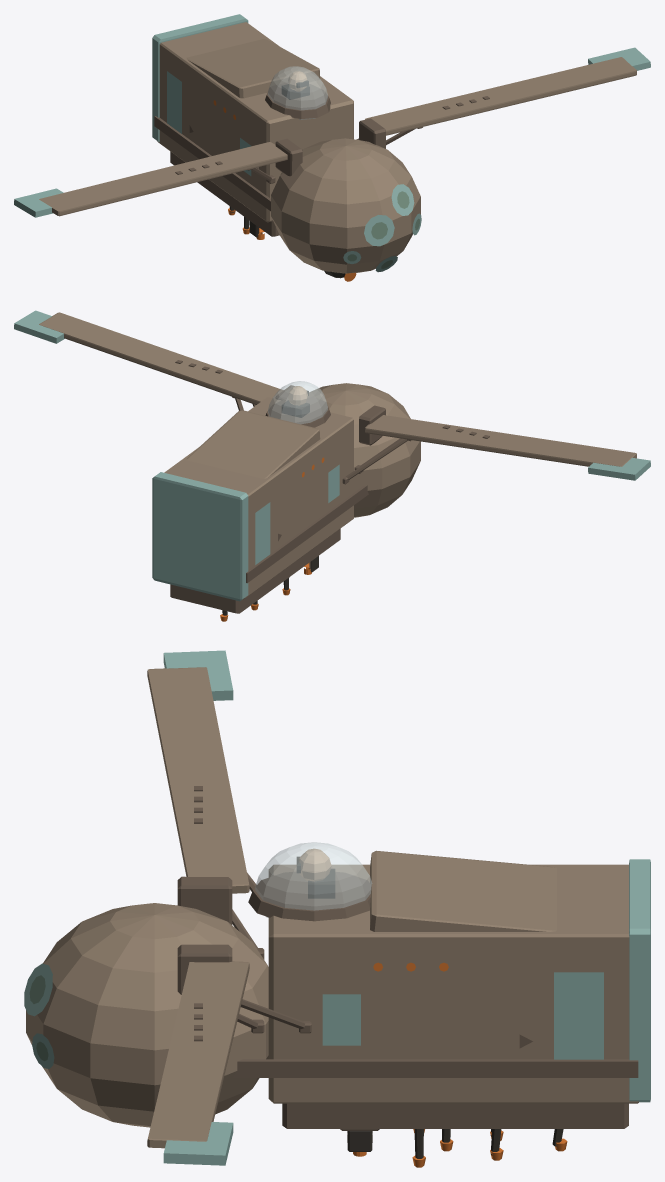
The model's file is pod-08-9.glb.
3 views of the same model, one above another, from view 1: azimuth 30°, elevation 25°; view 2: azimuth 150°, elevation 25°; view 3: azimuth 270°, elevation 25° (orthographic). The views are drawn at different scales.
Parts seen in each view (by area): view 1: n1, n13, n45, n33, n15, n27, n19, n28, n21, n17, n23, n35 (+5 smaller); view 2: n13, n19, n1, n15, n45, n33, n17, n27, n21, n28, n35, n47 (+2 smaller); view 3: n13, n1, n15, n33, n45, n17, n22, n27, n19, n25, n28, n37 (+6 smaller).
Part boxes in pixels (x1,y1,x2,y2): n1: (271, 138, 420, 273); n13: (157, 22, 353, 222); n45: (365, 57, 636, 135); n33: (39, 142, 287, 216); n15: (186, 39, 320, 98); n27: (268, 66, 327, 119); n19: (152, 14, 248, 142); n28: (265, 82, 330, 118); n21: (154, 116, 270, 211); n17: (170, 151, 279, 236); n23: (167, 71, 181, 133); n35: (14, 188, 63, 217); n13: (164, 397, 353, 599); n19: (152, 472, 248, 601); n1: (308, 383, 420, 517); n15: (186, 410, 320, 478); n45: (39, 312, 283, 404); n33: (365, 415, 636, 466); n17: (170, 528, 340, 613); n27: (268, 381, 327, 424); n21: (246, 485, 368, 583); n28: (265, 397, 330, 427); n35: (588, 457, 650, 480); n47: (14, 310, 64, 343); n13: (268, 864, 638, 1103); n1: (26, 903, 268, 1127); n15: (370, 850, 556, 931); n33: (147, 667, 249, 893); n45: (147, 961, 249, 1148); n17: (282, 1103, 628, 1128); n22: (233, 1059, 638, 1077); n27: (255, 842, 372, 917); n19: (629, 859, 650, 1102); n25: (554, 972, 603, 1059); n28: (248, 871, 370, 921); n37: (177, 876, 232, 924).
Size of the model in its own units: 7.6 by 2.13 by 4.05.
